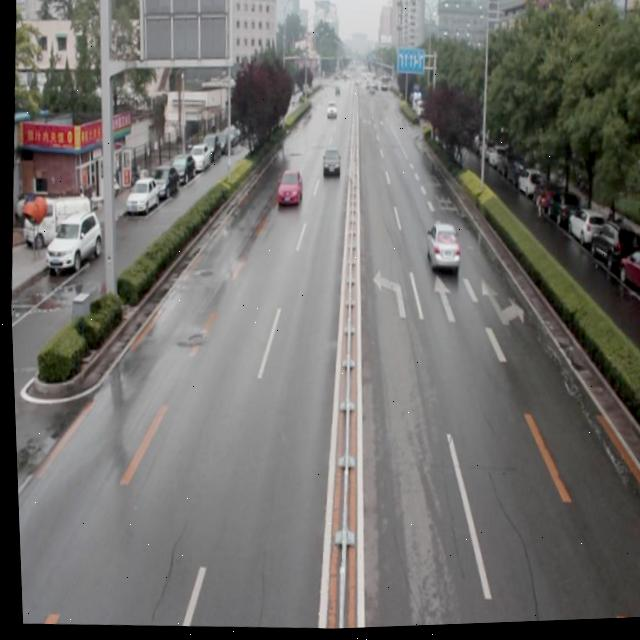car: (420, 222, 460, 276), (273, 169, 302, 206), (319, 149, 341, 182), (324, 105, 336, 121)
